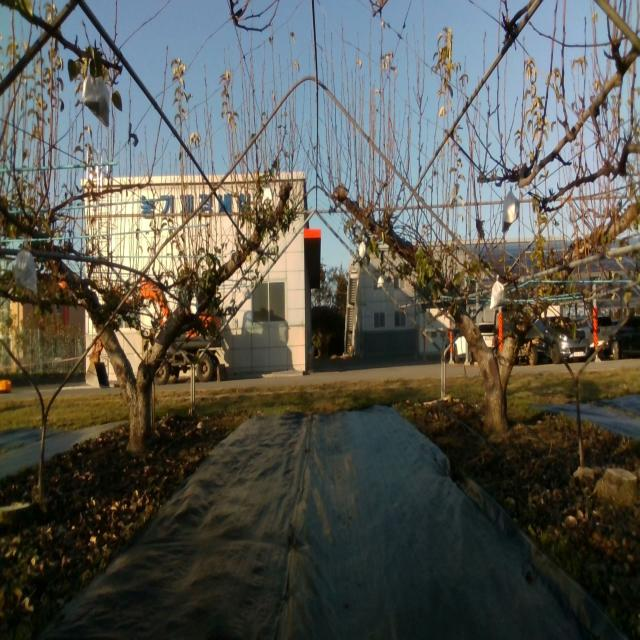pearbags: (82, 74, 110, 128), (14, 241, 38, 295), (502, 188, 520, 235), (489, 276, 505, 311), (262, 182, 272, 205)
